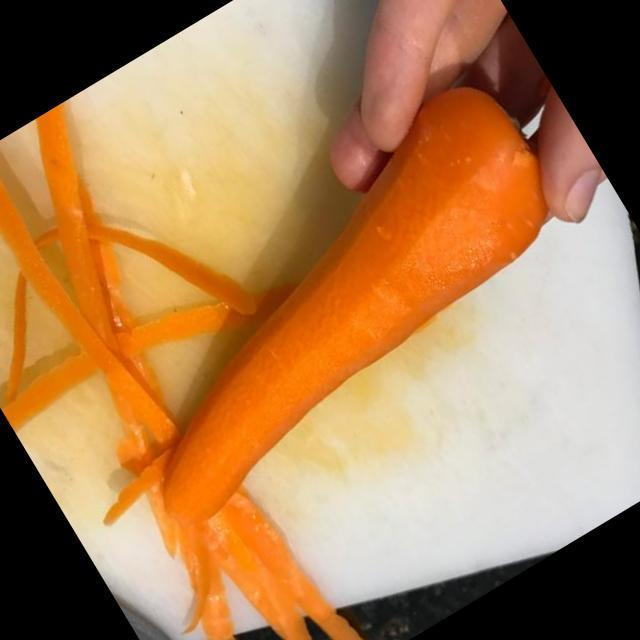carrot: (164, 88, 548, 521)
